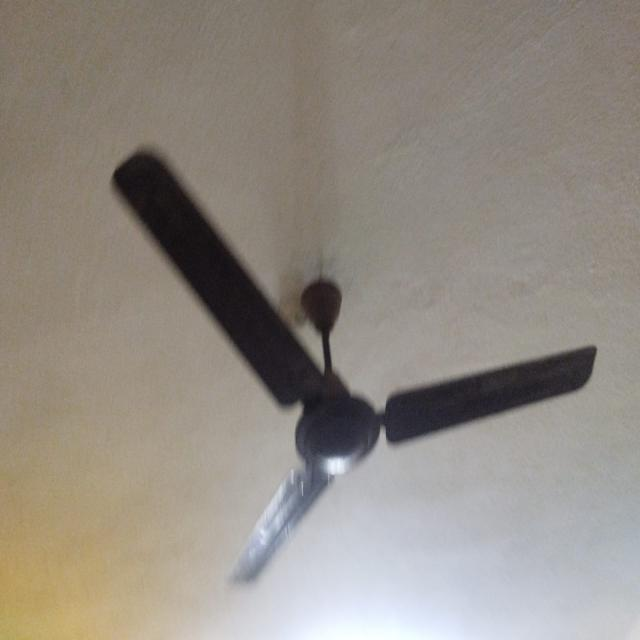fan_off: (110, 149, 597, 587)
